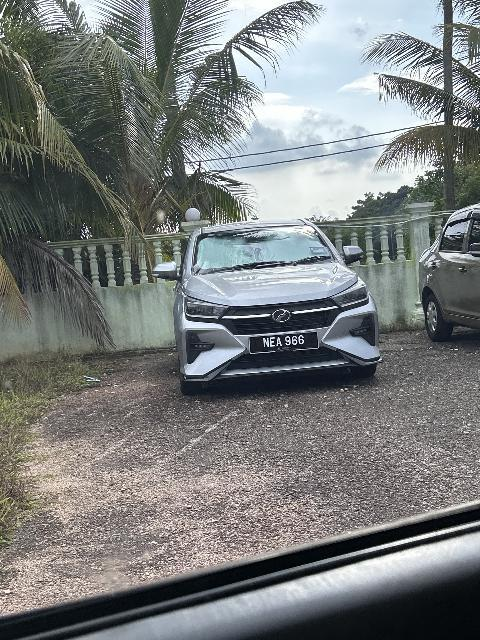License_Plate: (248, 333, 320, 357)
NEA966: (248, 333, 320, 357)
car: (154, 208, 388, 396)
